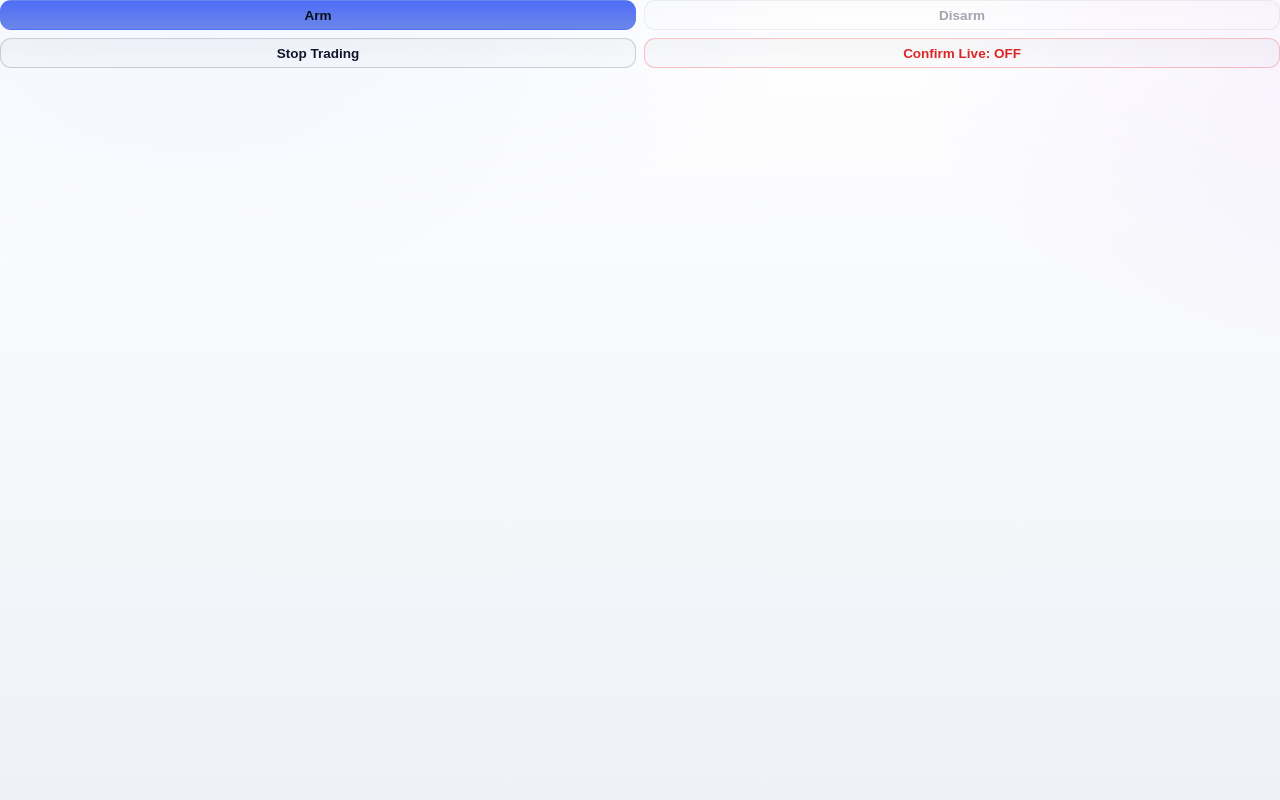
Test: Confirm Live — type-LIVE gate › opens a modal instead of flipping on immediately
Step 1. Click the button "Confirm Live: OFF" → (962, 53), box [644, 38, 1279, 68]
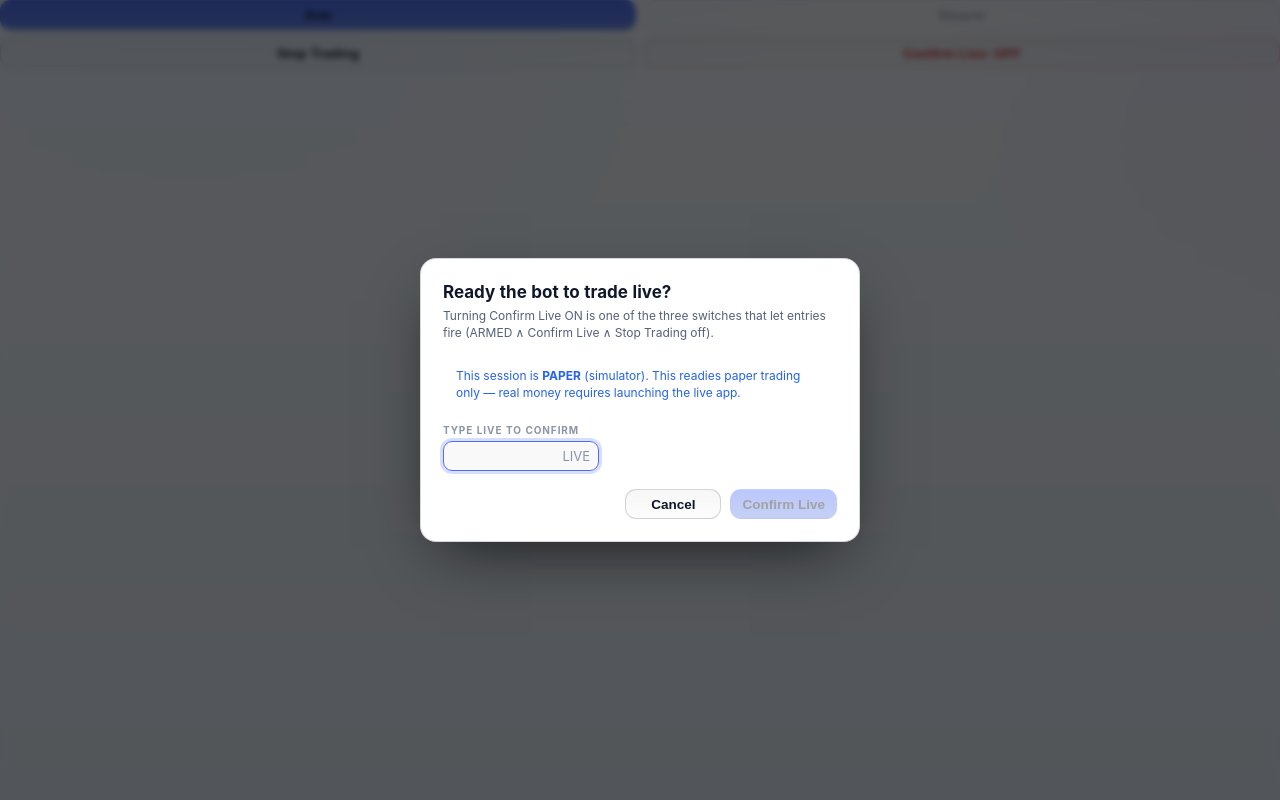
Check: the dialog is shown
